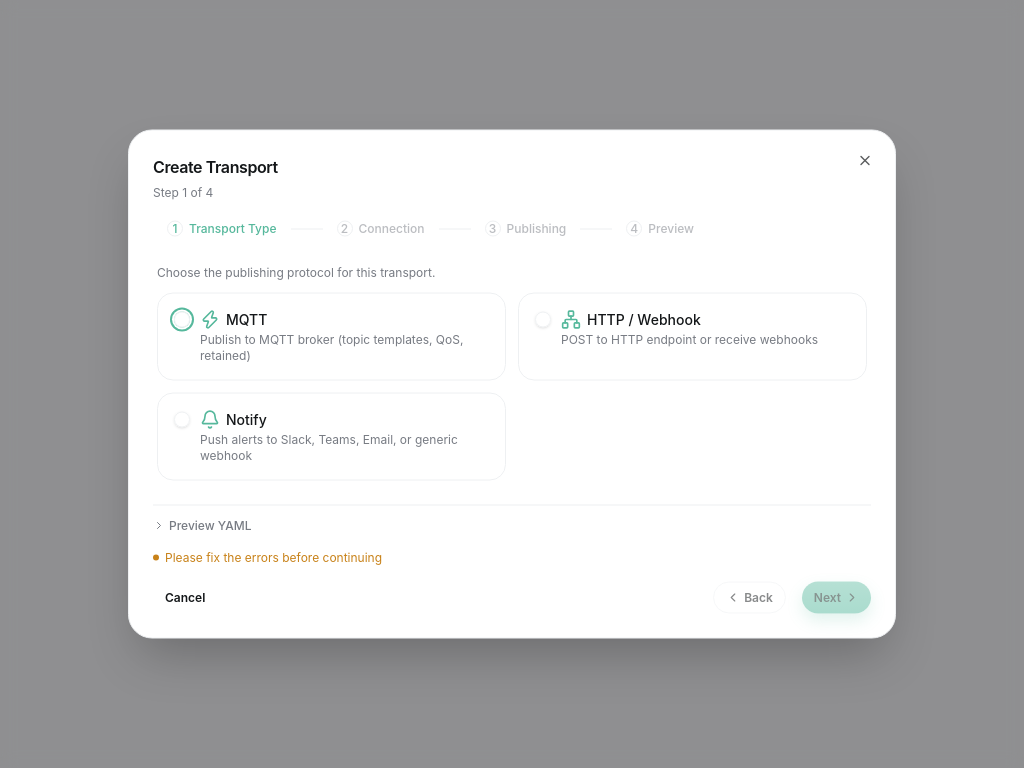
Test: TransportTestSender › wizard connection step explains the probe lives on the detail page after apply
This screenshot has width=1024, height=768.
Expected: the heading "Create Transport" is shown, [153,156,278,176]
Click the text "MQTT".
click(247, 320)  # box [226,310,267,330]
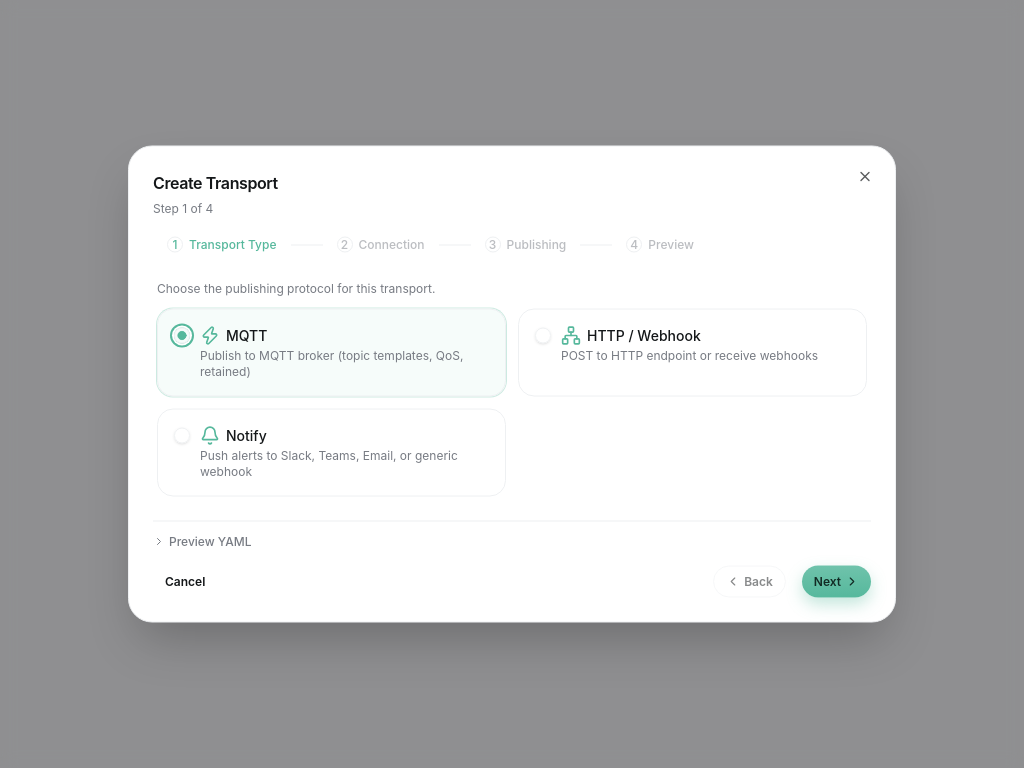
Click the button "Next".
click(836, 582)  # box [802,566,871,598]
(page scrolled)
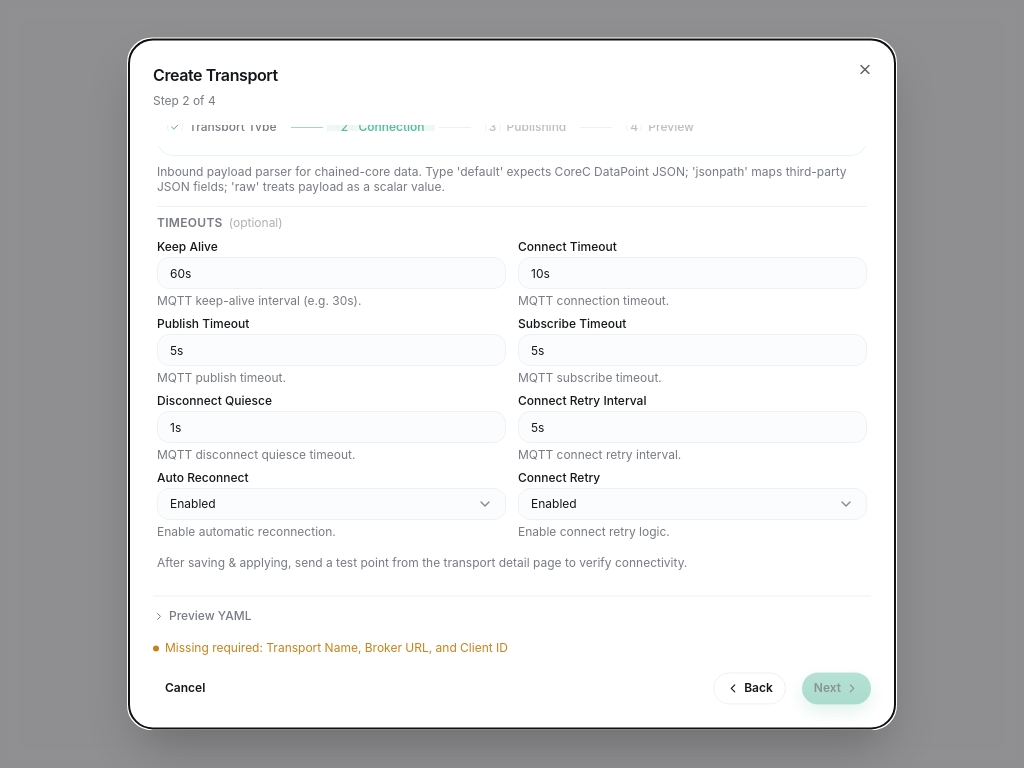
Expected: the text "After saving & applying, send a test point from the transport detail page to verify connectivity." is shown, [157,556,687,570]
